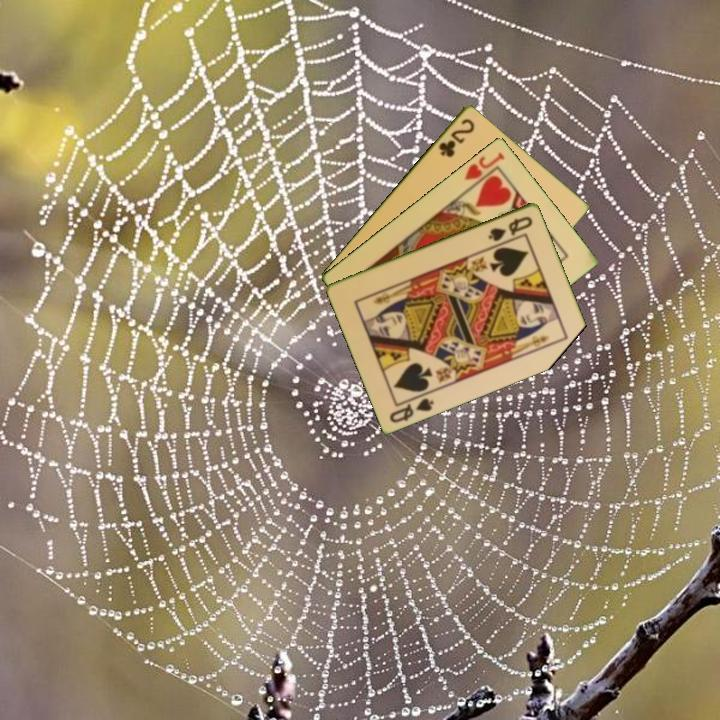2c: (435, 115, 477, 160)
Jh: (460, 148, 508, 183)
Qs: (485, 212, 536, 244), (386, 394, 437, 426)
